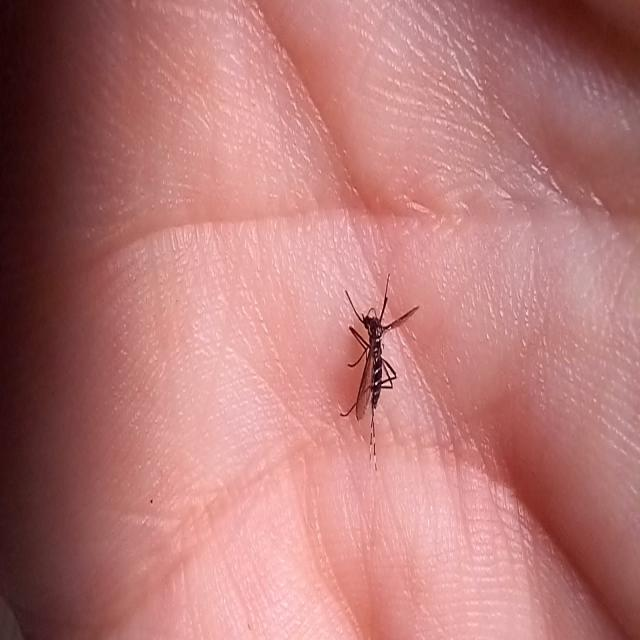albopictus: (337, 264, 418, 476)
